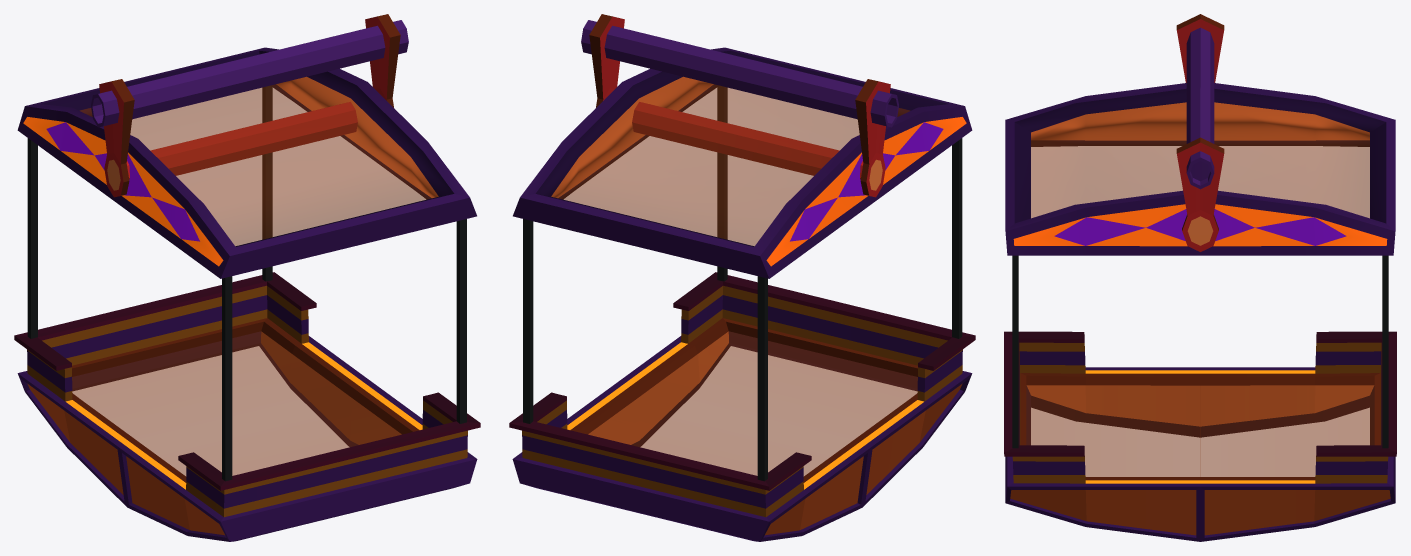
The model's file is Booth_03.glb.
3 renders of one model, left to right at view 1: azimuth 30°, elevation 25°; view 2: azimuth 150°, elevation 25°; view 3: azimuth 270°, elevation 25°, orthographic. The views are drawn at different scales.
Parts seen in each view (by area): view 1: Booth_03; view 2: Booth_03; view 3: Booth_03.
Boxes of the visible parts, x1=… form: Booth_03: x1=14, y1=14, x2=480, y2=541; Booth_03: x1=509, y1=14, x2=975, y2=541; Booth_03: x1=1004, y1=14, x2=1396, y2=541.
Size of what is drawn, in the model's own units: 8.2 by 11.16 by 9.66.
2 materials, 2 textured.
